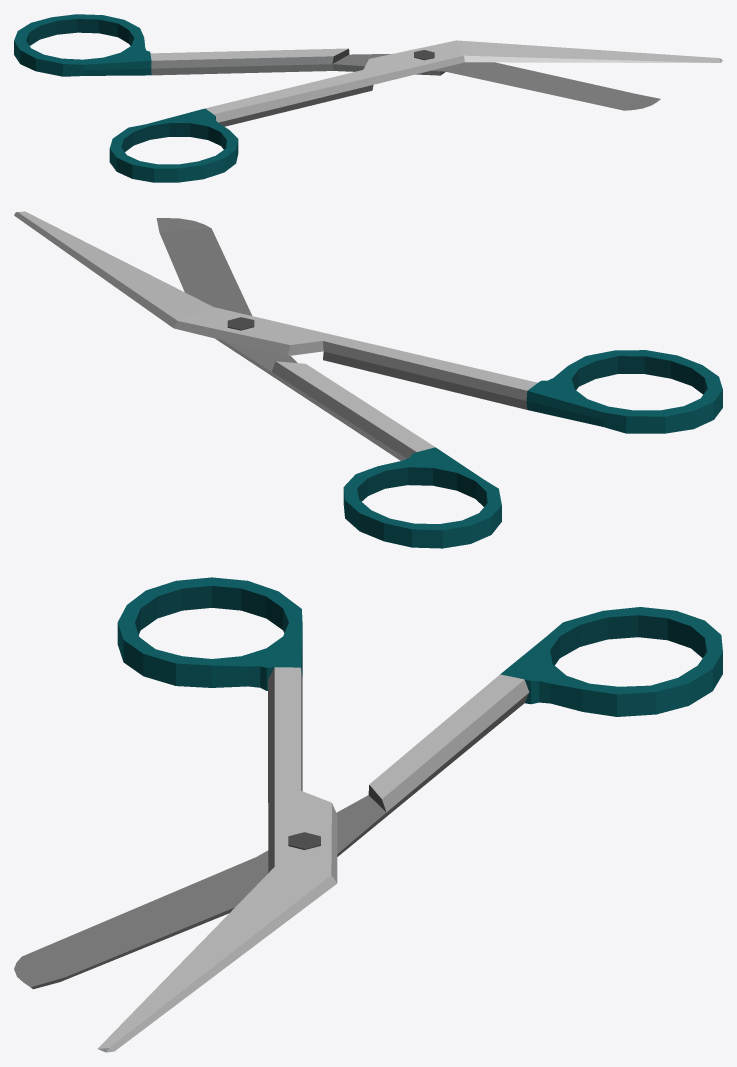
Rendered from WorldItem_BandageScissors.fbx.
The picture shows the model from 3 angles, top to bottom: view 1: azimuth 30°, elevation 25°; view 2: azimuth 150°, elevation 25°; view 3: azimuth 270°, elevation 25°; orthographic projection. The views are drawn at different scales.
Parts seen in each view (by area): view 1: ZomboidBandageScissors; view 2: ZomboidBandageScissors; view 3: ZomboidBandageScissors.
Boxes of the visible parts, x1,y1,x2,y2 form: ZomboidBandageScissors: (14,14,722,182); ZomboidBandageScissors: (14,211,722,548); ZomboidBandageScissors: (14,577,722,1052).
Size of the model in its own units: 0.2049 by 0.00797 by 0.1375.
